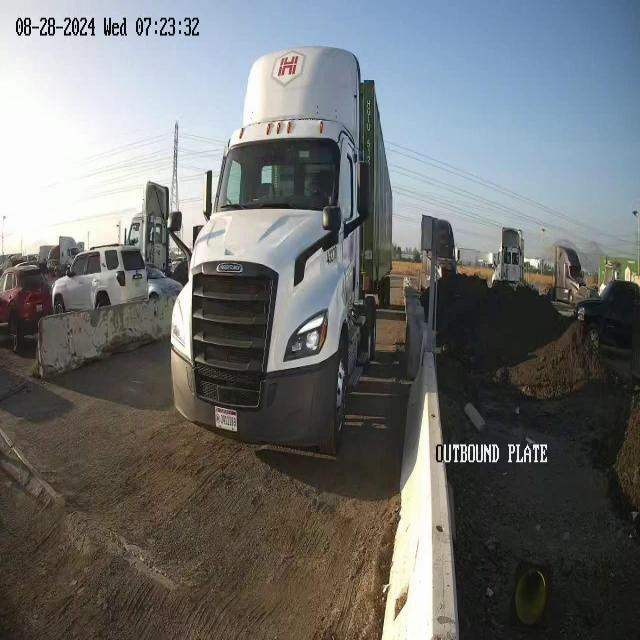TRUCK_CONTAINER: (168, 45, 392, 446)
